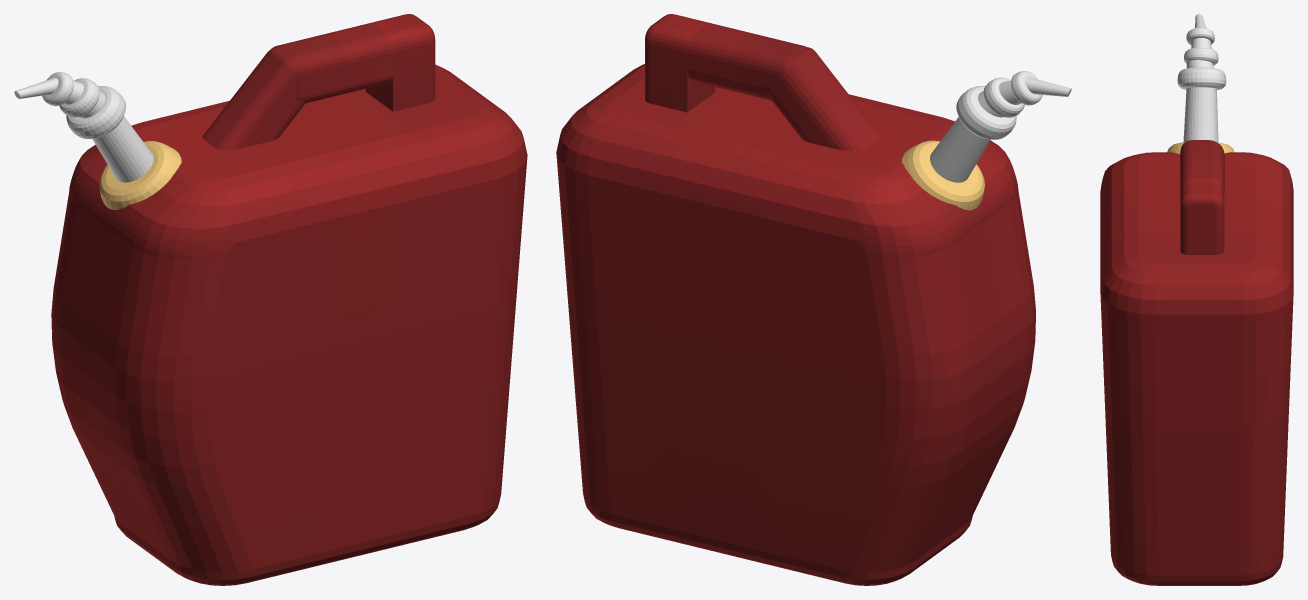
File: Fuelcan.fbx
3 views of the same model, side by side, from view 1: azimuth 30°, elevation 25°; view 2: azimuth 150°, elevation 25°; view 3: azimuth 270°, elevation 25° (orthographic). The views are drawn at different scales.
Visible parts, largest first — view 1: Cylinder.002, Cylinder.001, Cylinder.003; view 2: Cylinder.002, Cylinder.001, Cylinder.003; view 3: Cylinder.002, Cylinder.001.
Boxes of the visible parts, x1,y1,x2,y2 form: Cylinder.002: [51, 14, 527, 585]; Cylinder.001: [14, 72, 153, 182]; Cylinder.003: [99, 141, 181, 209]; Cylinder.002: [556, 14, 1035, 585]; Cylinder.001: [930, 71, 1071, 182]; Cylinder.003: [902, 140, 984, 210]; Cylinder.002: [1100, 140, 1293, 585]; Cylinder.001: [1177, 14, 1226, 142].
Bounding box in the file's own units: 1.44 × 1.48 × 0.6371.
Materials: 3 (2 with a texture image).
